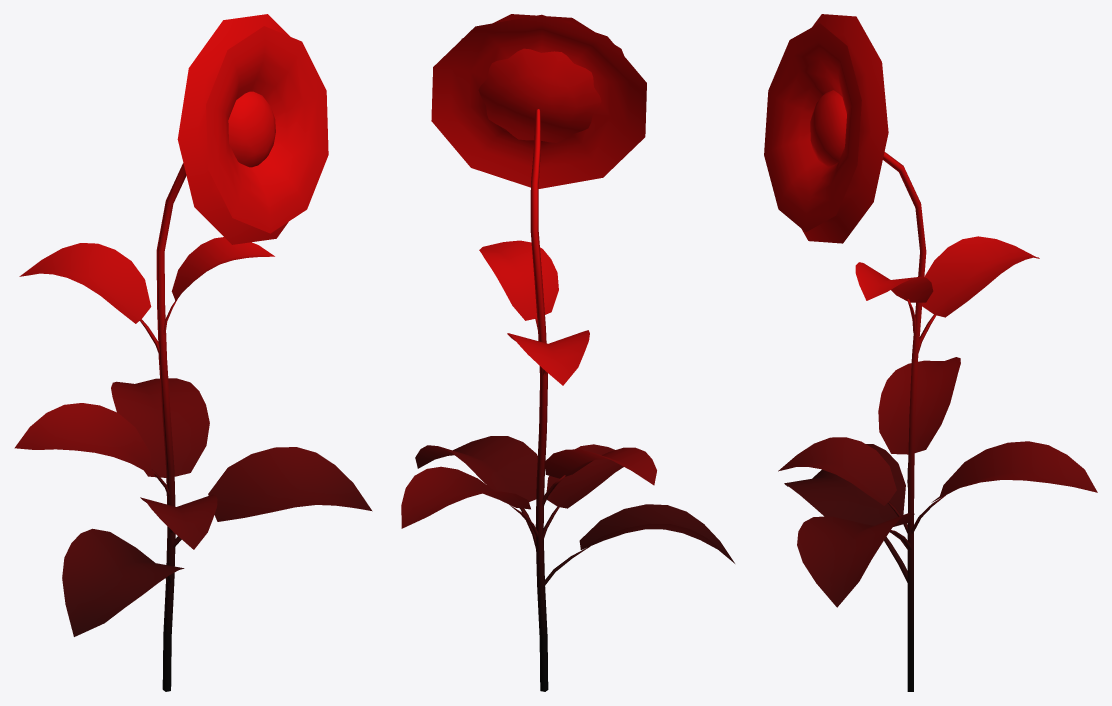
Rendered from Sunflower_2.fbx.
The picture shows the model from 3 angles, left to right: view 1: azimuth 30°, elevation 25°; view 2: azimuth 150°, elevation 25°; view 3: azimuth 270°, elevation 25°; orthographic projection. The views are drawn at different scales.
Visible parts, largest first — view 1: Sunflower_2_LOD0; view 2: Sunflower_2_LOD0; view 3: Sunflower_2_LOD0.
Part boxes in pixels (x1=…): Sunflower_2_LOD0: x1=14, y1=14, x2=372, y2=691; Sunflower_2_LOD0: x1=401, y1=14, x2=734, y2=691; Sunflower_2_LOD0: x1=764, y1=14, x2=1097, y2=691.
Size of what is drawn, in the model's own units: 87.21 by 180 by 79.12.
